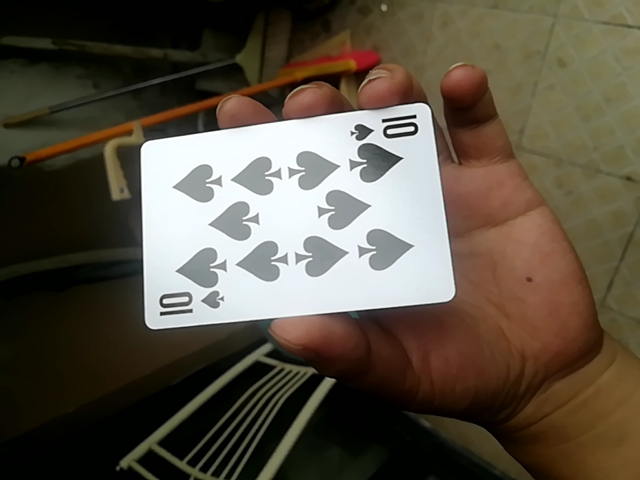ht 10: (138, 97, 453, 338)
